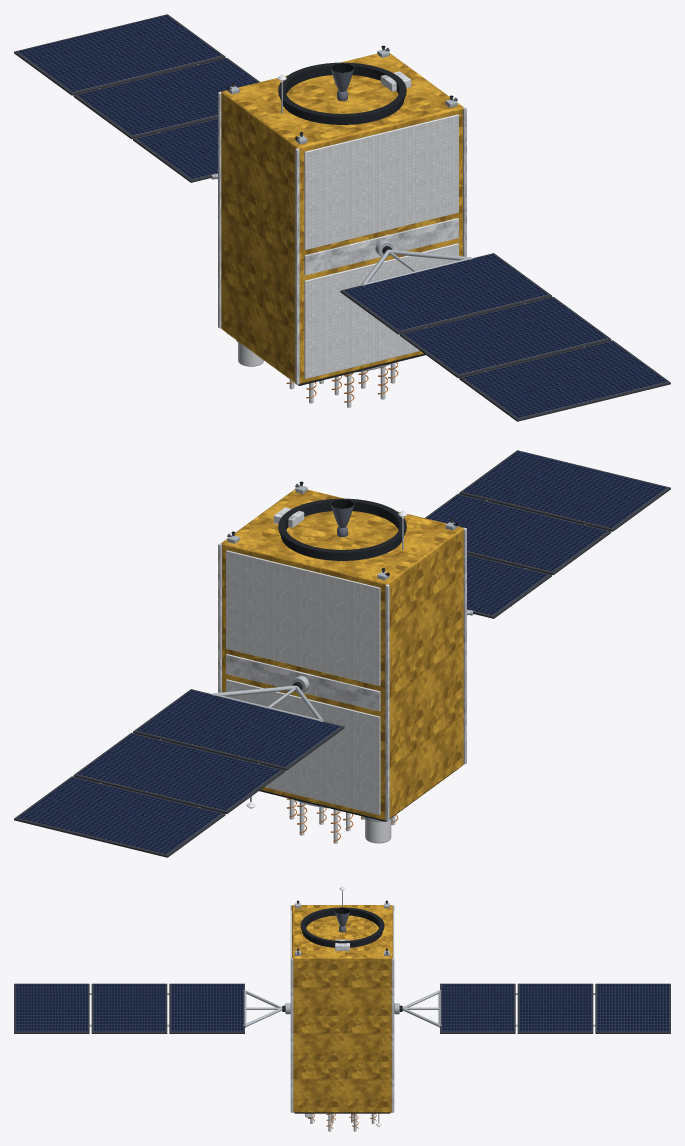
The model's file is gnss.glb.
3 renders of one model, top to bottom at view 1: azimuth 30°, elevation 25°; view 2: azimuth 150°, elevation 25°; view 3: azimuth 270°, elevation 25°, orthographic. The views are drawn at different scales.
Parts seen in each view (by area): view 1: gnss_body, solar_2, solar_1; view 2: gnss_body, solar_1, solar_2; view 3: gnss_body, solar_1, solar_2.
Boxes of the visible parts, x1=… form: gnss_body: x1=218, y1=45, x2=466, y2=407; solar_2: x1=340, y1=239, x2=670, y2=421; solar_1: x1=14, y1=14, x2=259, y2=182; gnss_body: x1=218, y1=481, x2=466, y2=843; solar_1: x1=14, y1=675, x2=344, y2=857; solar_2: x1=425, y1=450, x2=670, y2=618; gnss_body: x1=290, y1=886, x2=394, y2=1131; solar_1: x1=394, y1=983, x2=670, y2=1033; solar_2: x1=14, y1=983, x2=290, y2=1033.
Bounding box in the file's own units: 2.55 × 4.65 × 13.02.
13 materials, 4 textured.
